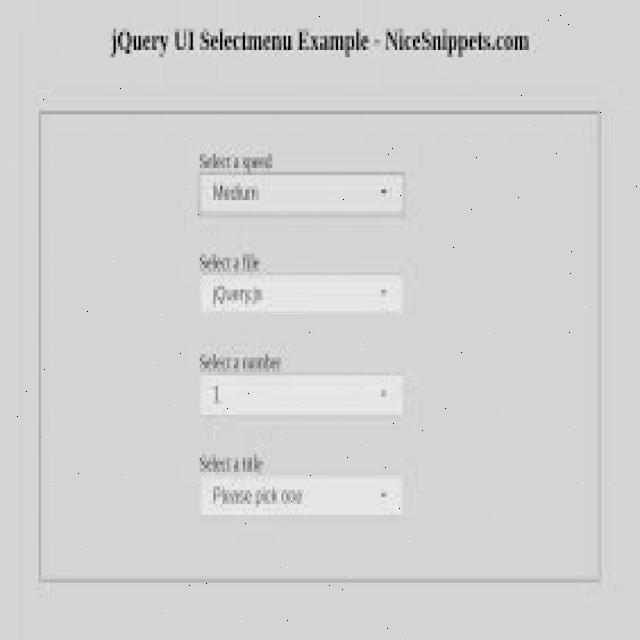dropdownMenu: (199, 172, 405, 216), (199, 275, 403, 314), (200, 477, 402, 516), (198, 376, 404, 414)
label: (195, 347, 286, 373), (195, 147, 278, 171), (195, 448, 266, 474), (198, 248, 266, 274)
